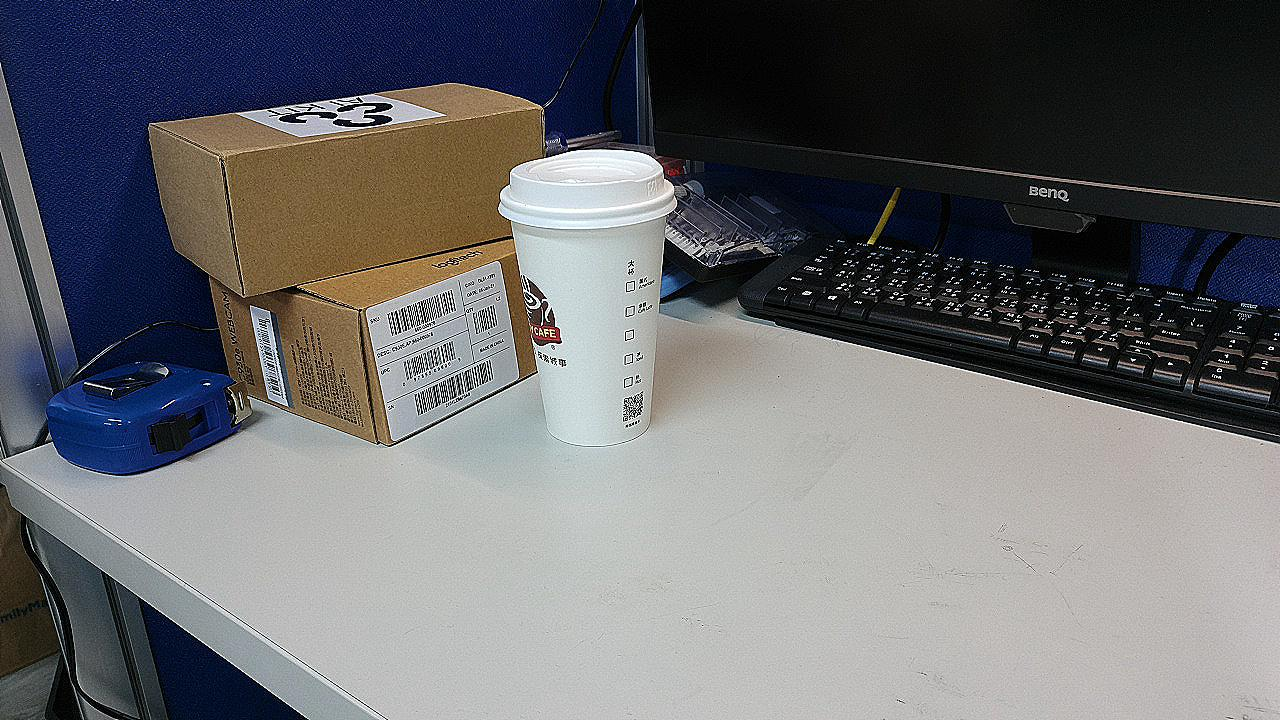long: (610, 303, 667, 387)
